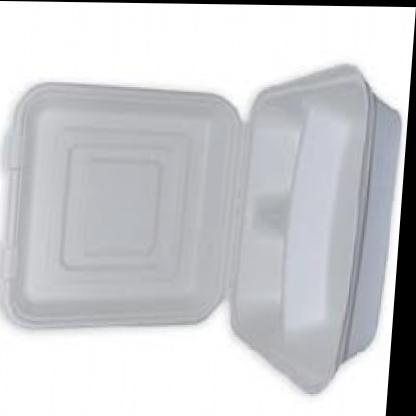trash: (4, 65, 400, 391), (7, 83, 240, 326), (232, 65, 400, 391)
